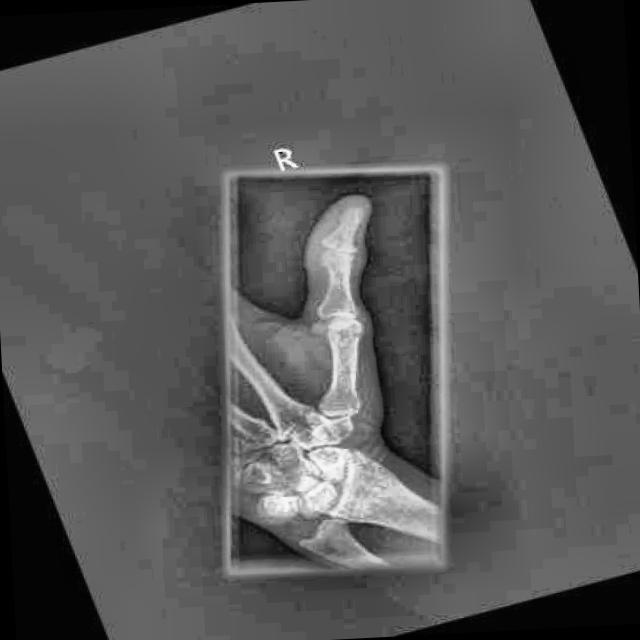fingers positive: (319, 324, 373, 345), (315, 248, 360, 273)
